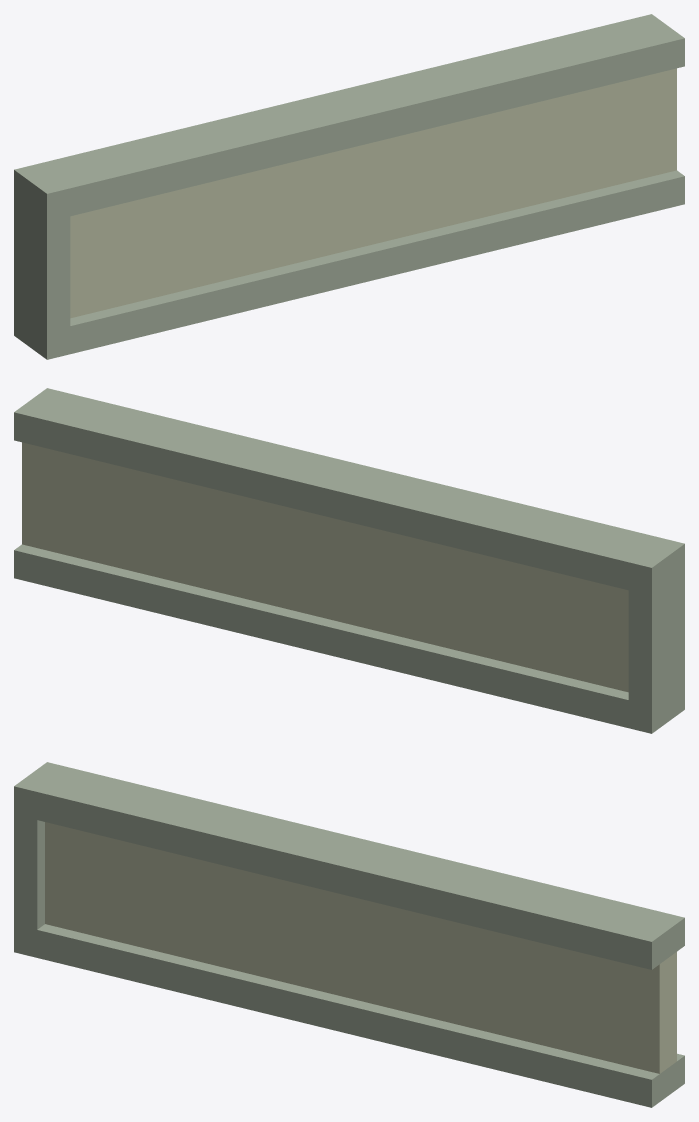
The model's file is Barrière pierre 3 fixed.fbx.
3 views of the same model, one above another, from view 1: azimuth 30°, elevation 25°; view 2: azimuth 150°, elevation 25°; view 3: azimuth 330°, elevation 25° (orthographic).
Parts seen in each view (by area): view 1: Rambarde Droite 2.0; view 2: Rambarde Droite 2.0; view 3: Rambarde Droite 2.0.
Boxes of the visible parts, x1,y1,x2,y2 form: Rambarde Droite 2.0: (14,14,684,359); Rambarde Droite 2.0: (14,388,684,733); Rambarde Droite 2.0: (14,762,684,1107).
Size of the model in its own units: 245 by 60.92 by 22.05.
